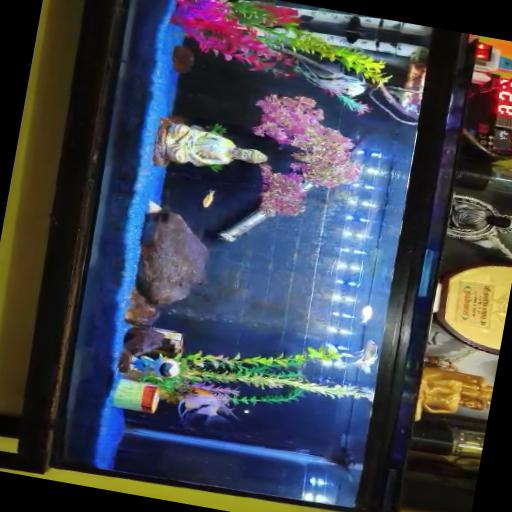Fish: (298, 61, 366, 96), (177, 387, 224, 422), (351, 339, 377, 373), (152, 355, 179, 377), (360, 304, 372, 322), (201, 190, 213, 206)
